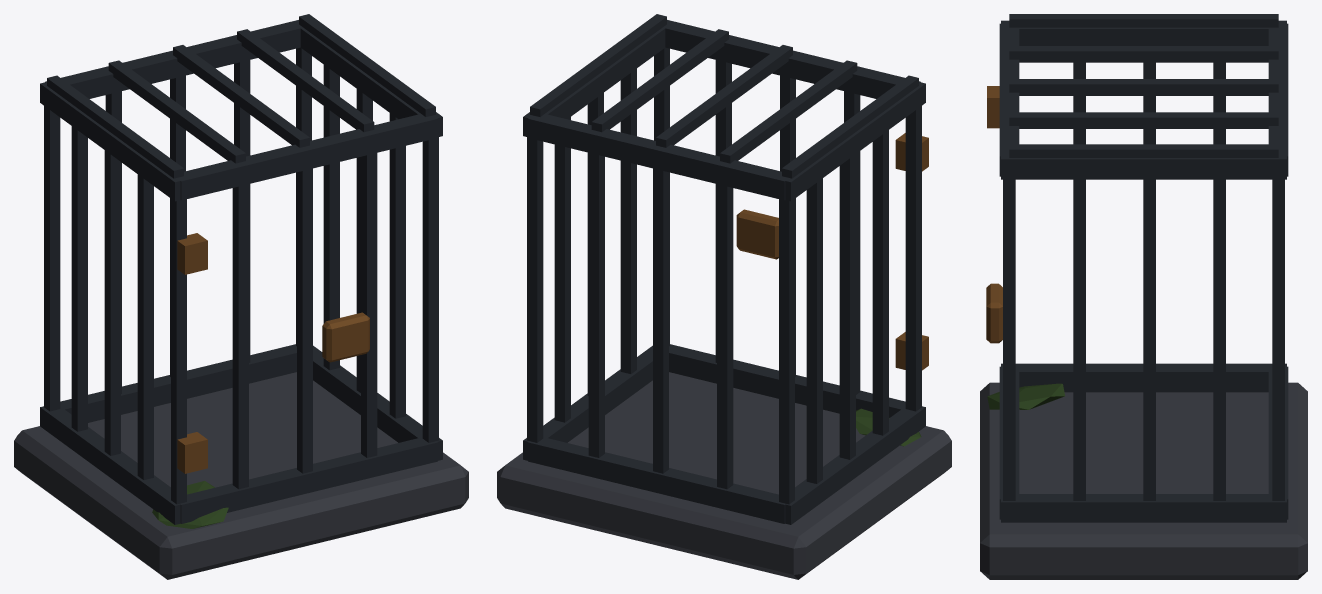
File: Iron_Prison_Cage.glb
The picture shows the model from 3 angles, left to right: view 1: azimuth 30°, elevation 25°; view 2: azimuth 150°, elevation 25°; view 3: azimuth 270°, elevation 25°; orthographic projection. The views are drawn at different scales.
Visible parts, largest first — view 1: Iron_Prison_Cage; view 2: Iron_Prison_Cage; view 3: Iron_Prison_Cage.
Part boxes in pixels (left/top/right/bottom): Iron_Prison_Cage: left=14, top=14, right=468, bottom=579; Iron_Prison_Cage: left=497, top=14, right=951, bottom=579; Iron_Prison_Cage: left=980, top=14, right=1307, bottom=579.
Bounding box in the file's own units: 1.35 × 1.66 × 1.17.
